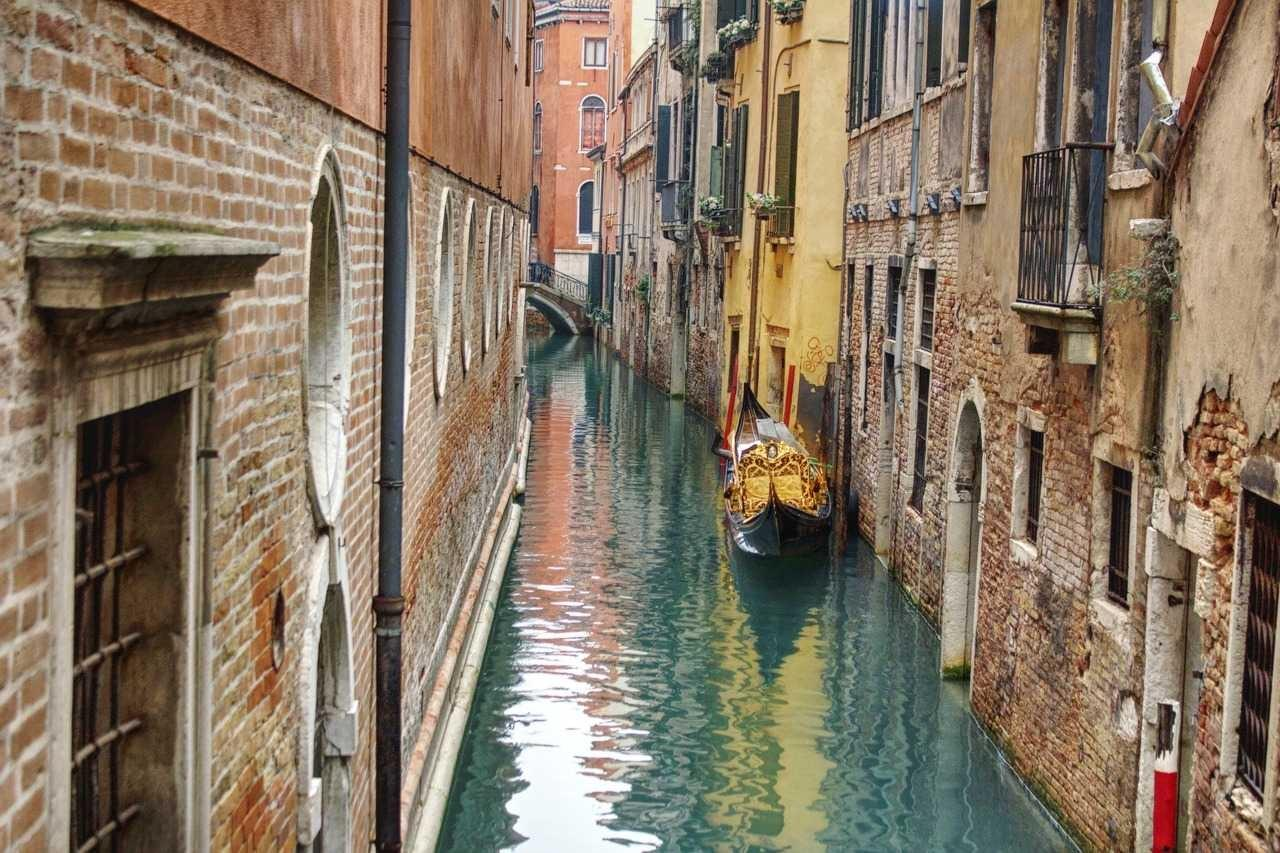kayak: (718, 382, 832, 562)
